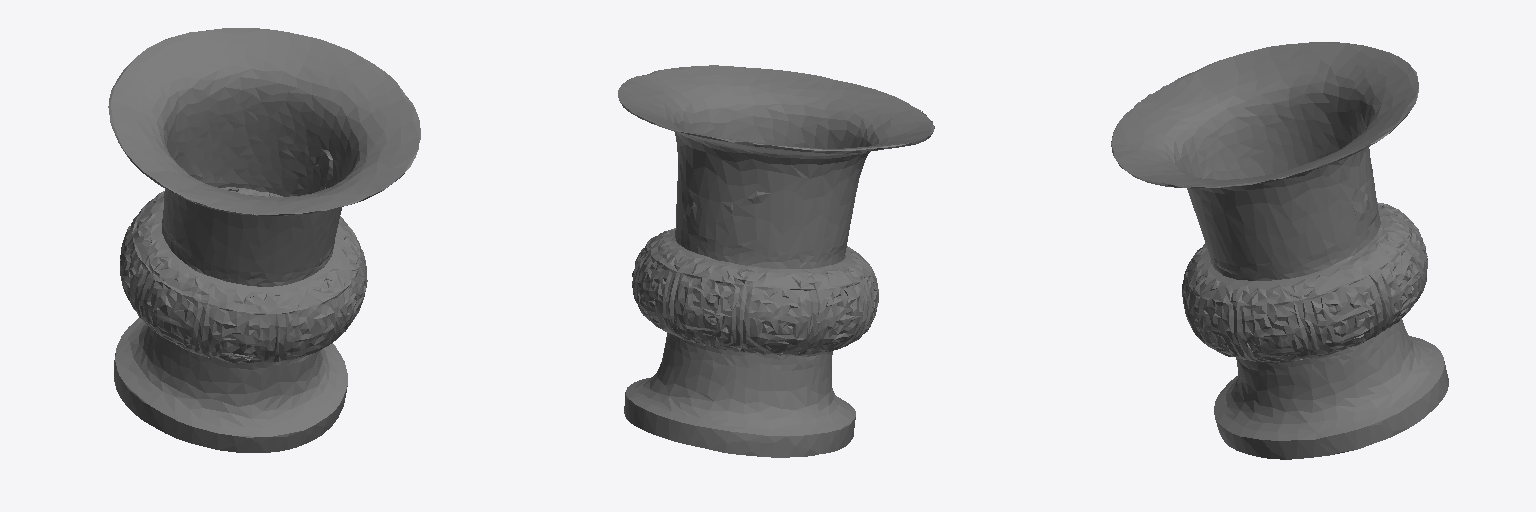
The picture shows the model from 3 angles: view 1: azimuth 30°, elevation 25°; view 2: azimuth 150°, elevation 25°; view 3: azimuth 270°, elevation 25°; orthographic projection.
Parts seen in each view (by area): view 1: Polygonal_Model_1 Triangles_1; view 2: Polygonal_Model_1 Triangles_1; view 3: Polygonal_Model_1 Triangles_1.
Part boxes in pixels (left/top/right/bottom): Polygonal_Model_1 Triangles_1: left=108, top=28, right=420, bottom=452; Polygonal_Model_1 Triangles_1: left=618, top=65, right=934, bottom=457; Polygonal_Model_1 Triangles_1: left=1111, top=42, right=1448, bottom=459.
Size of the model in its own units: 1.4 by 1.68 by 1.49.